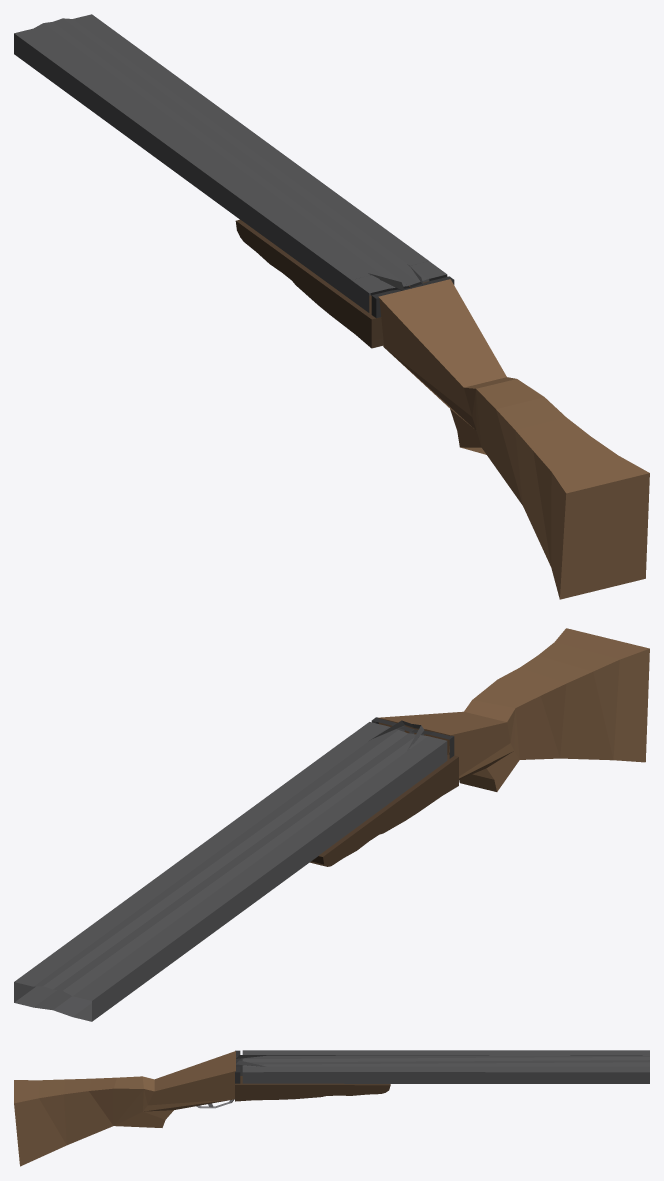
The model's file is doublebarrelshotgun.gltf.
The picture shows the model from 3 angles, top to bottom: view 1: azimuth 30°, elevation 25°; view 2: azimuth 150°, elevation 25°; view 3: azimuth 270°, elevation 25°; orthographic projection. The views are drawn at different scales.
Parts seen in each view (by area): view 1: Cube.001, Cube.004, Cube.003; view 2: Cube.001, Cube.004, Cube.003; view 3: Cube.001, Cube.004, Cube.003.
Part boxes in pixels (x1,y1,x2,y2): Cube.001: (14, 14, 447, 312); Cube.004: (378, 279, 649, 599); Cube.003: (235, 219, 428, 348); Cube.001: (14, 720, 447, 1021); Cube.004: (378, 628, 649, 791); Cube.003: (310, 754, 458, 866); Cube.001: (236, 1050, 649, 1083); Cube.004: (14, 1051, 235, 1166); Cube.003: (235, 1076, 390, 1101).
Size of the model in its own units: 0.448 by 0.8298 by 4.93.
